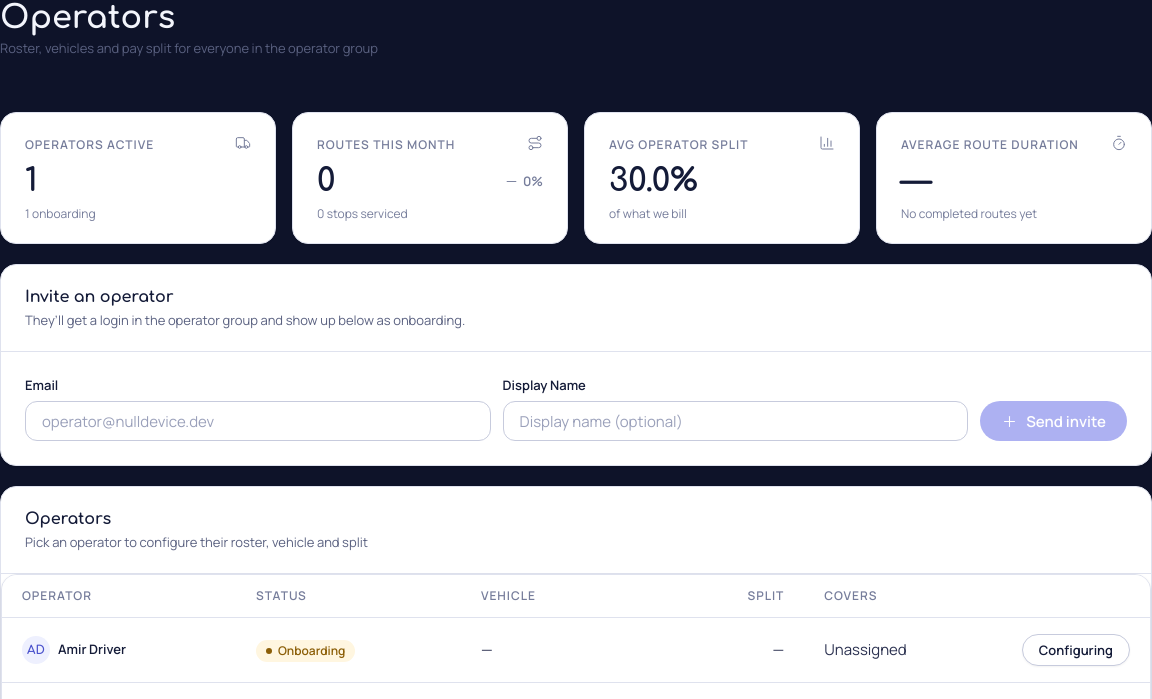
Test: Administrator Operators page › resends the invite for an onboarding driver
Click the button with aria-label "Configure Amir Driver" at coordinates (1076, 650), box top-left (1022, 634), bottom-right (1130, 666)
(page scrolled)
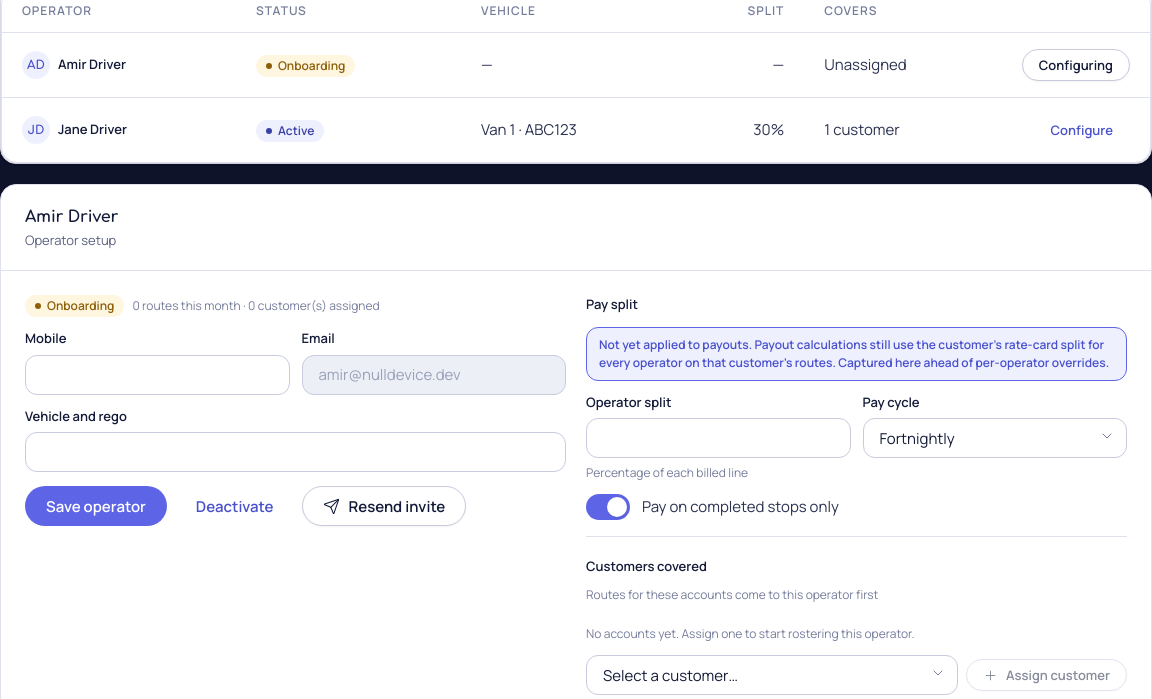
Click the button "Resend invite" at coordinates (384, 506), box top-left (302, 486), bottom-right (466, 526)
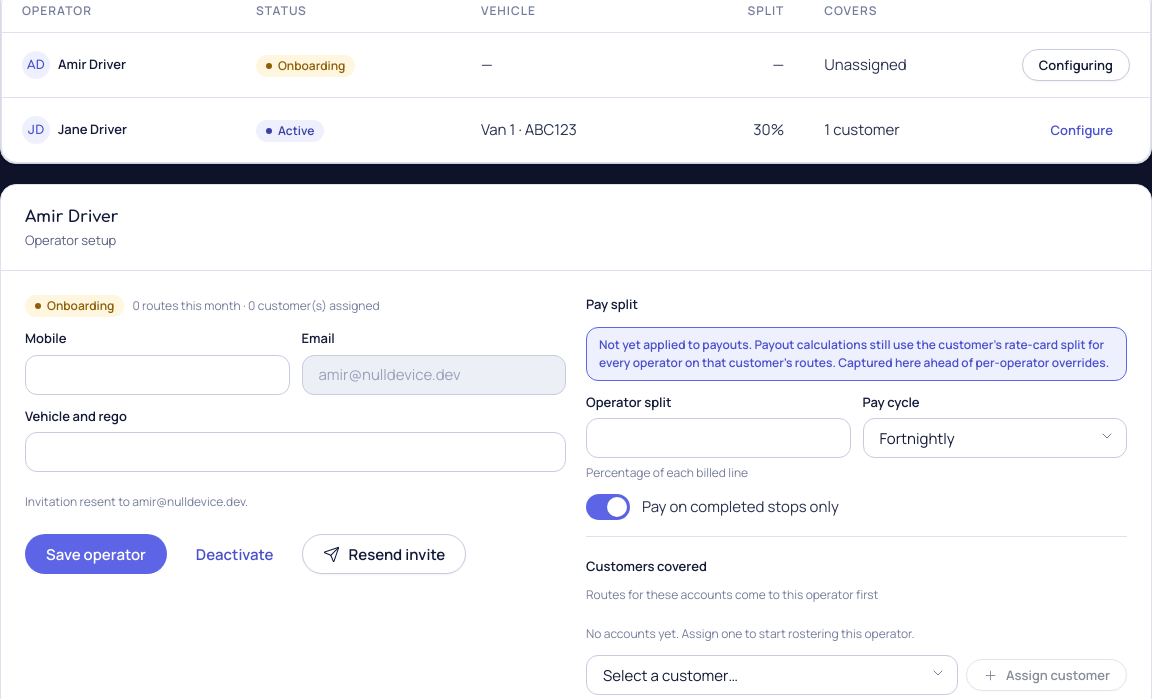
Check: the text "Invitation resent to amir@nulldevice.dev." is shown, box top-left (25, 493), bottom-right (248, 510)
